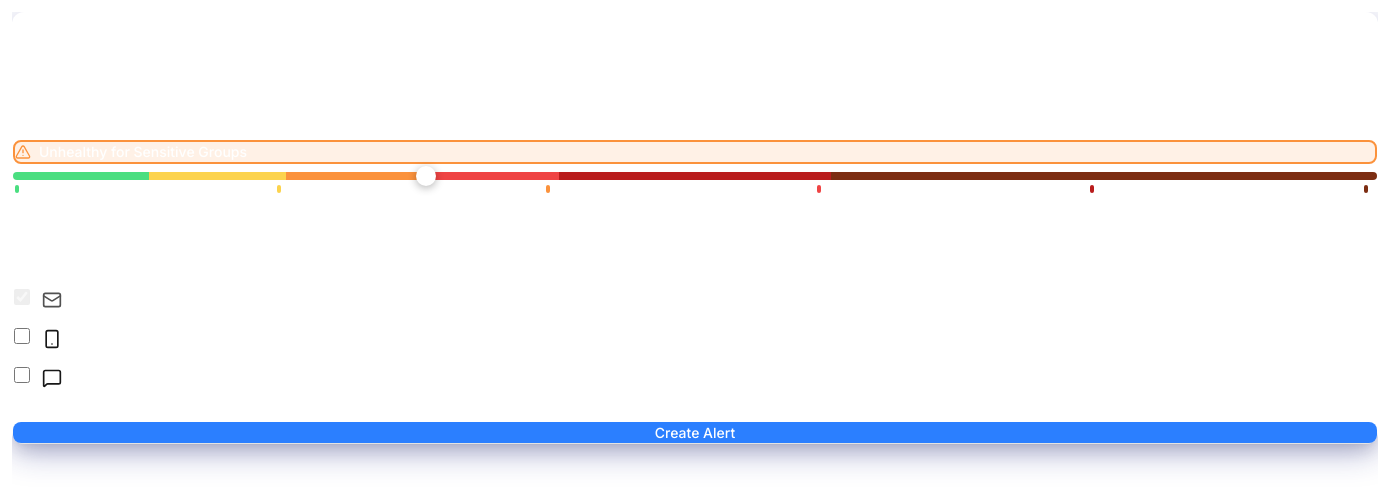
Test: AlertConfigurationCard › Threshold Slider › displays correct AQI category for threshold value
Set the slider named "AQI threshold slider" to "30" at (102, 176), box [13, 172, 1377, 180]
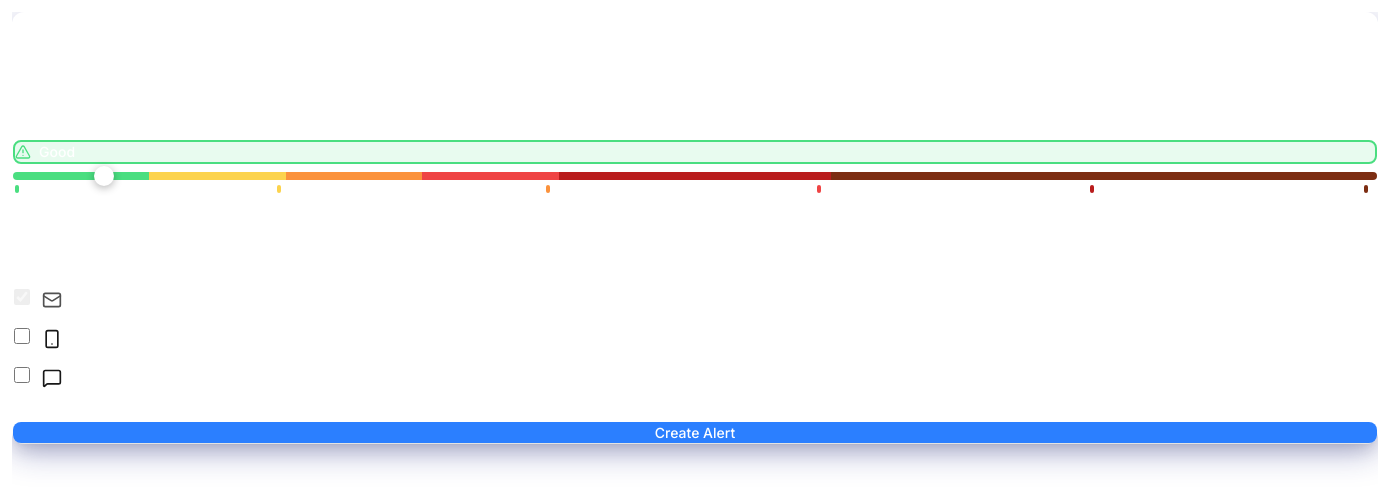
expect the text "Good" is shown: met, box [39, 142, 75, 162]
Set the slider named "AQI threshold slider" to "75" at (223, 176), box [13, 172, 1377, 180]
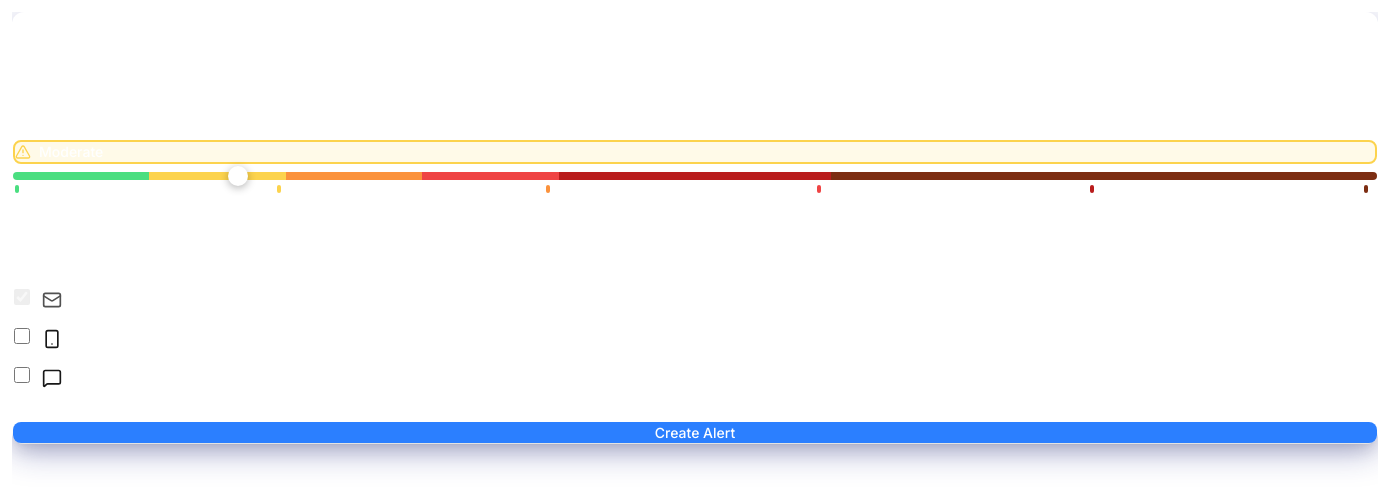
expect the text "Moderate" is shown: met, box [39, 142, 103, 162]
Set the slider named "AQI threshold slider" to "125" at (358, 176), box [13, 172, 1377, 180]
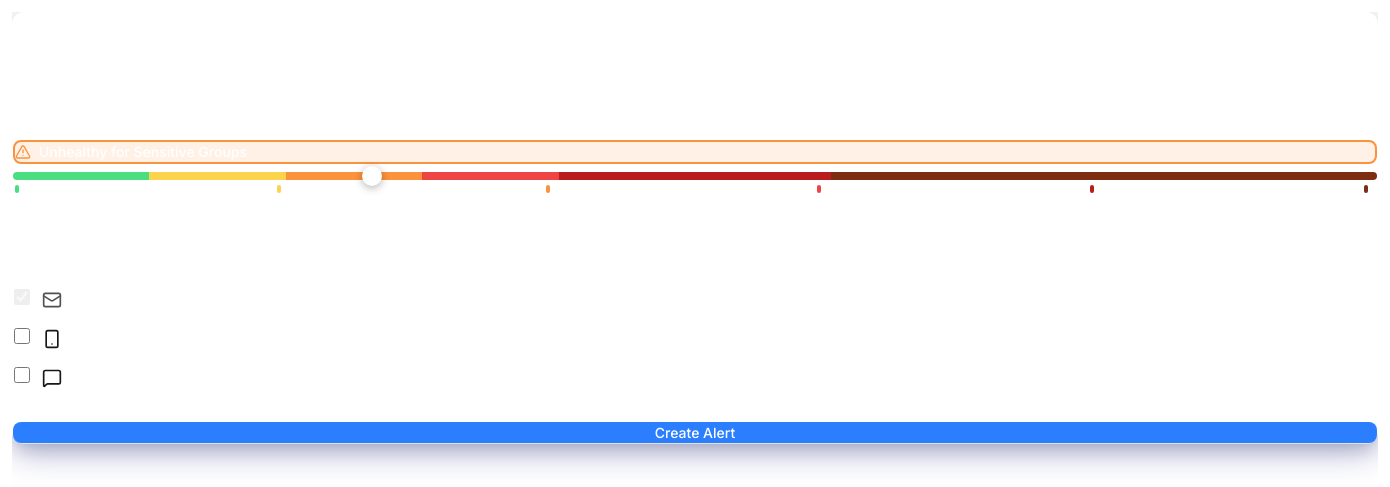
expect the text "Unhealthy for Sensitive Groups" is shown: met, box [39, 142, 247, 162]
Set the slider named "AQI threshold slider" to "175" at (493, 176), box [13, 172, 1377, 180]
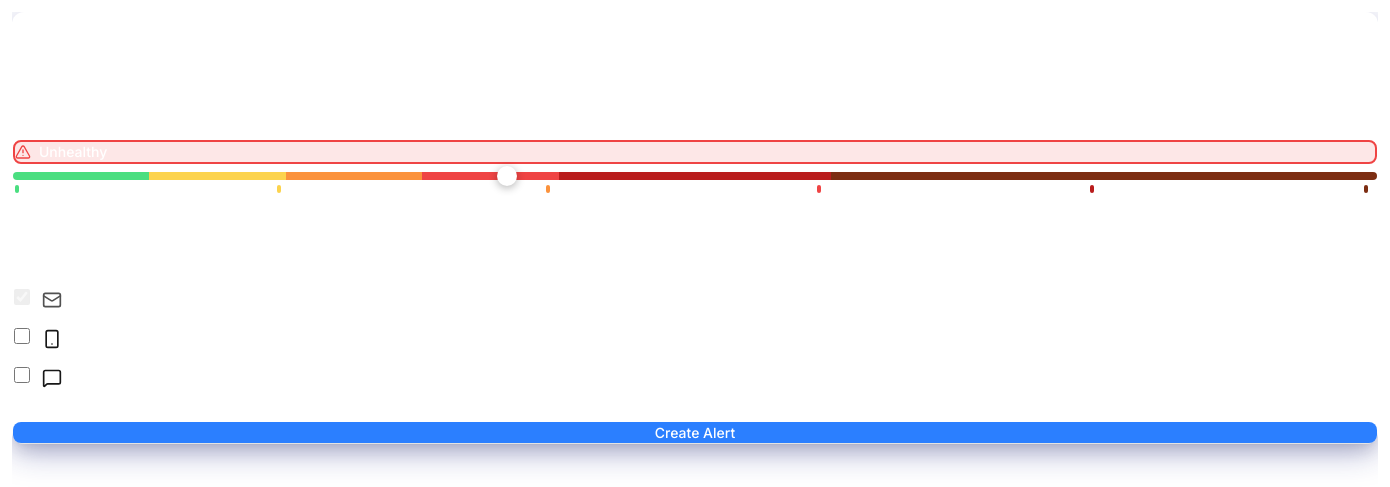
expect the text "Unhealthy" is shown: met, box [39, 142, 107, 162]
Set the slider named "AQI threshold slider" to "250" at (695, 176), box [13, 172, 1377, 180]
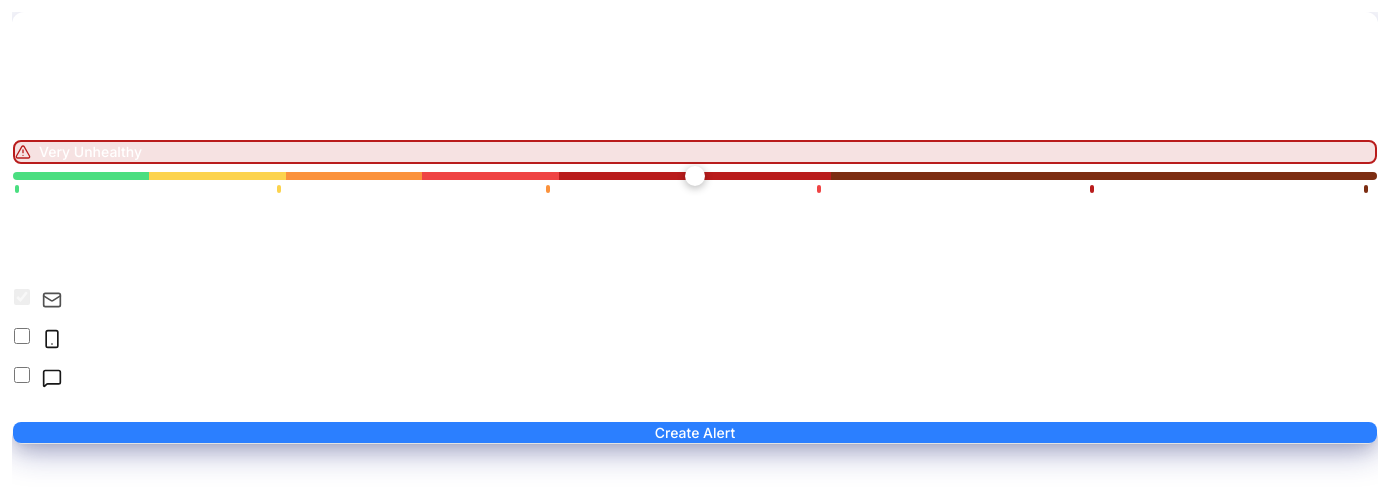
expect the text "Very Unhealthy" is shown: met, box [39, 142, 142, 162]
Set the slider named "AQI threshold slider" to "350" at (965, 176), box [13, 172, 1377, 180]
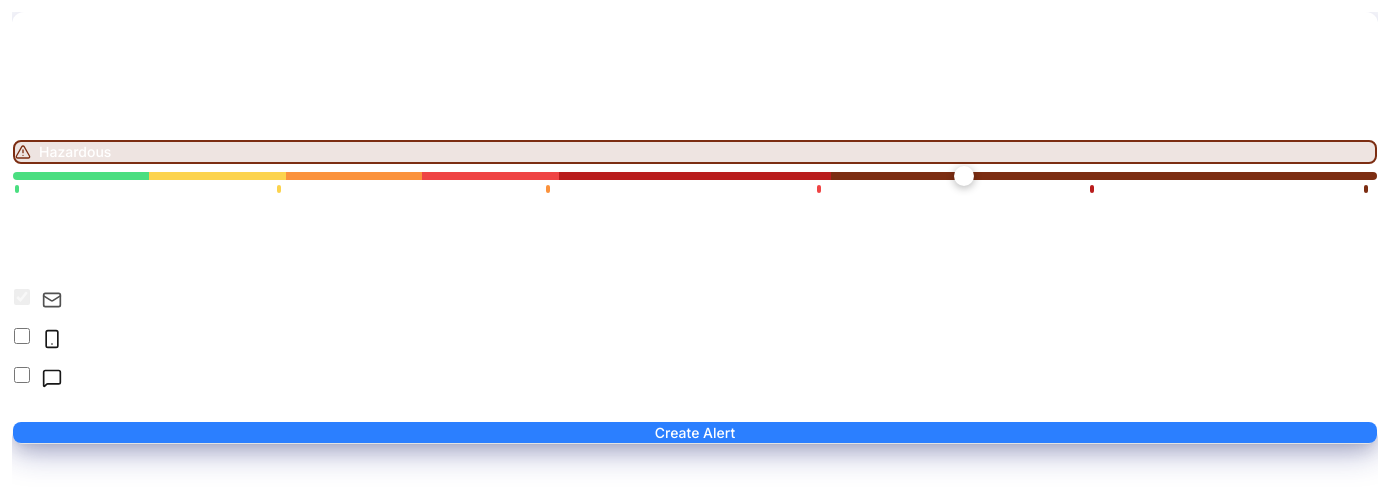
expect the text "Hazardous" is shown: met, box [39, 142, 111, 162]
